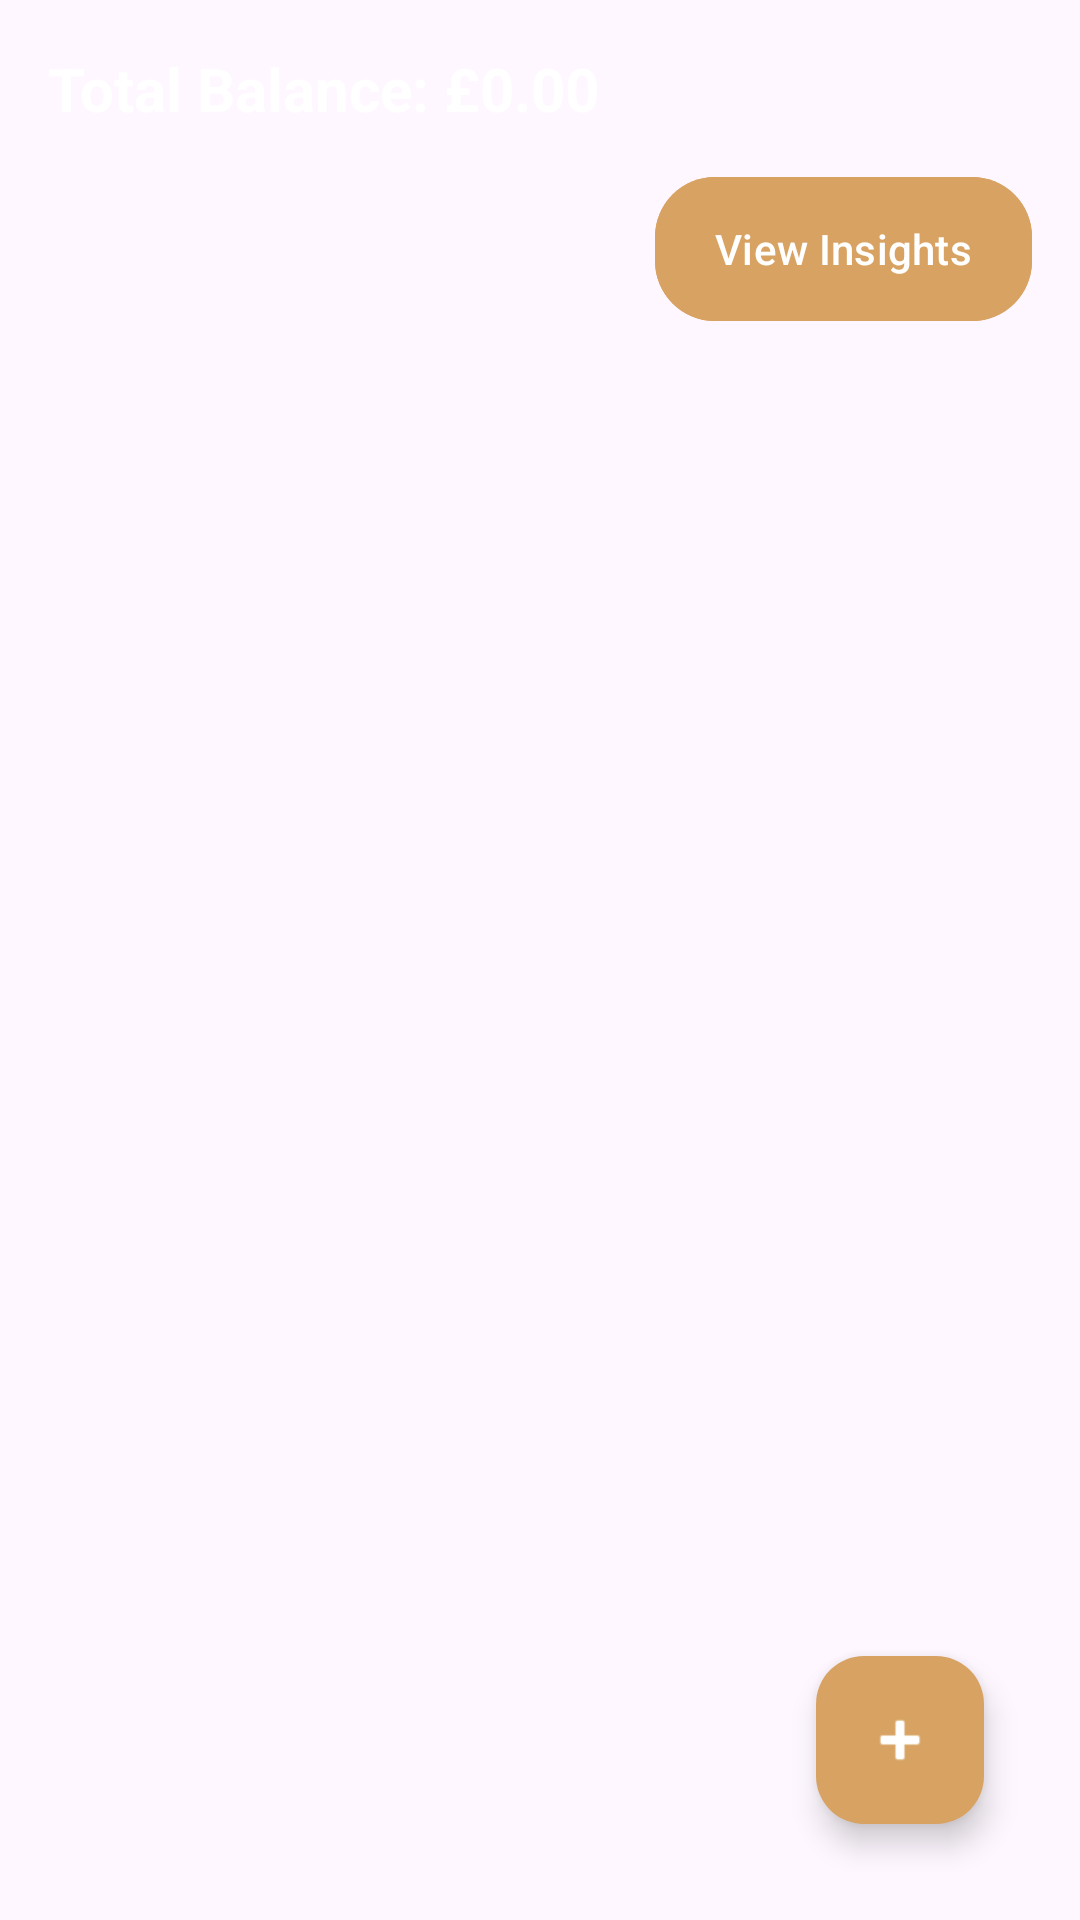

Point at icon controls on the screen. Image size 1080*1920, points as (x,y).
Add Transaction: (900,1740)
